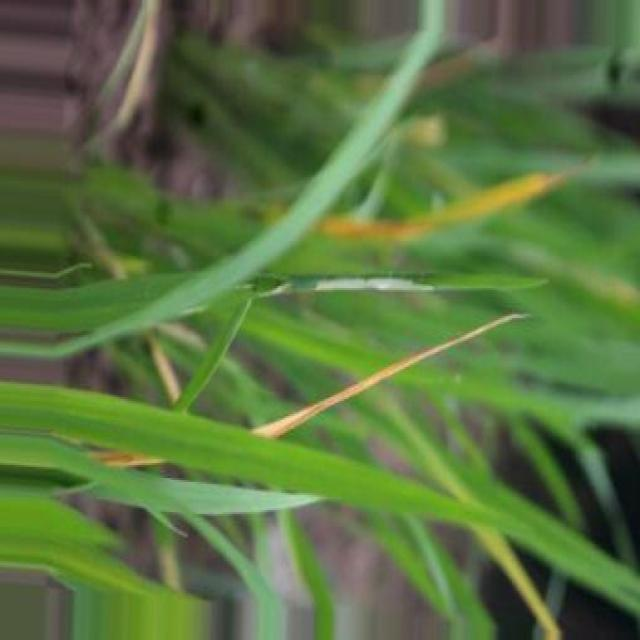Rice Tungro: (253, 315, 525, 438), (320, 174, 564, 241)
